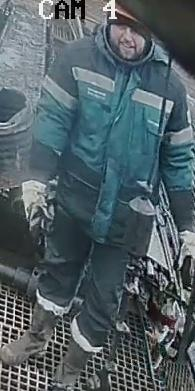gloves: (21, 174, 53, 241), (172, 229, 195, 286)
helmet: (106, 0, 149, 32)
vest: (32, 50, 193, 257)
